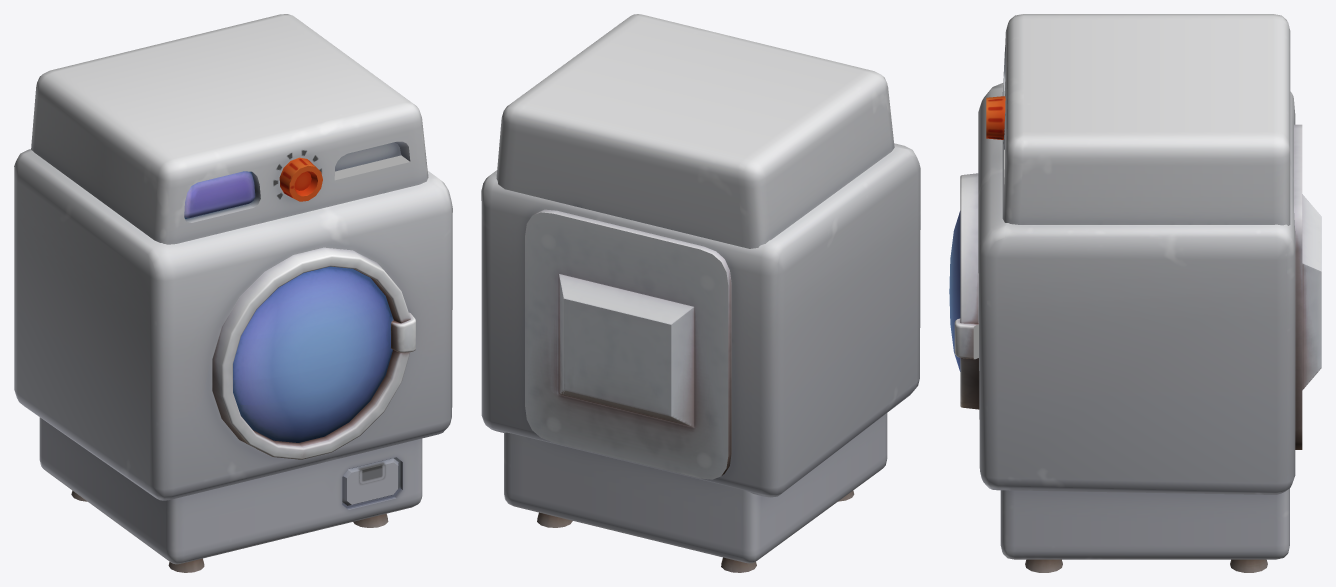
Rendered from WashingMachine01.FBX.
The picture shows the model from 3 angles, left to right: view 1: azimuth 30°, elevation 25°; view 2: azimuth 150°, elevation 25°; view 3: azimuth 270°, elevation 25°; orthographic projection. The views are drawn at different scales.
Visible parts, largest first — view 1: WashingMachine01; view 2: WashingMachine01; view 3: WashingMachine01.
Boxes of the visible parts, x1,y1,x2,y2 form: WashingMachine01: [14, 14, 452, 572]; WashingMachine01: [481, 14, 920, 572]; WashingMachine01: [949, 14, 1321, 572].
Size of what is drawn, in the model's own units: 0.7104 by 0.9507 by 0.7254.
